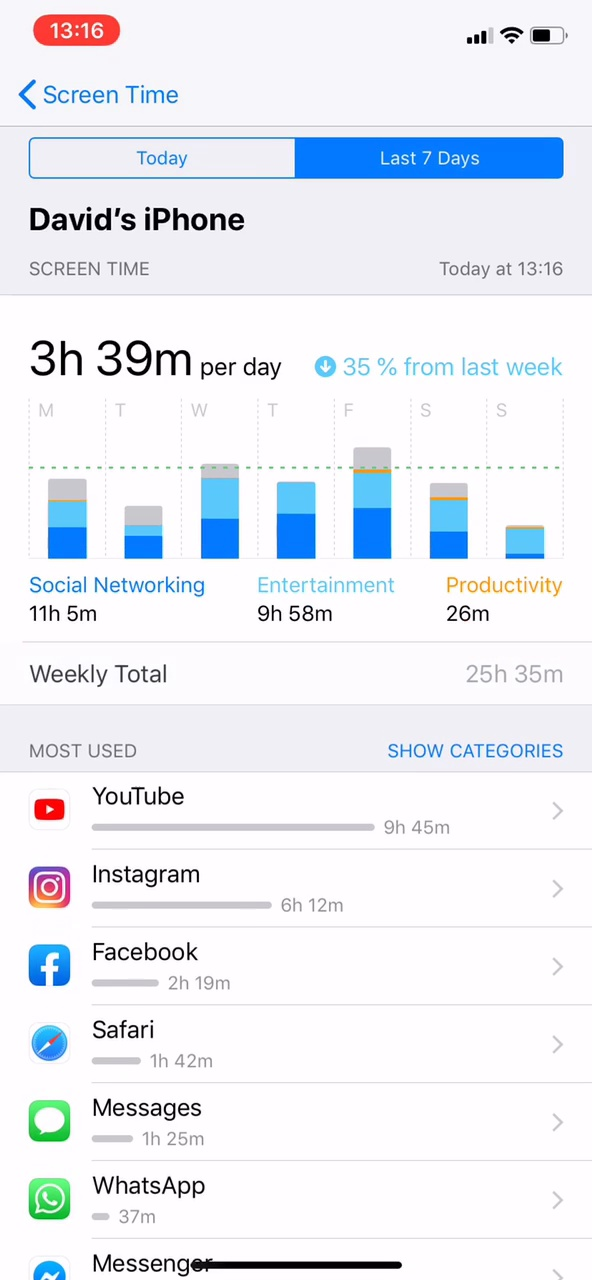use_over: (20, 571, 579, 686)
